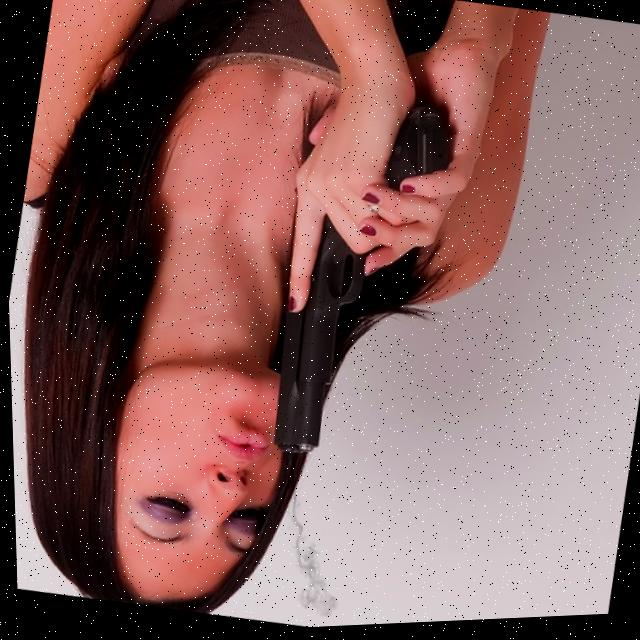pistol: (252, 207, 375, 465)
